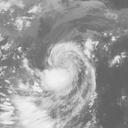cyclone: (38, 42, 96, 97)
